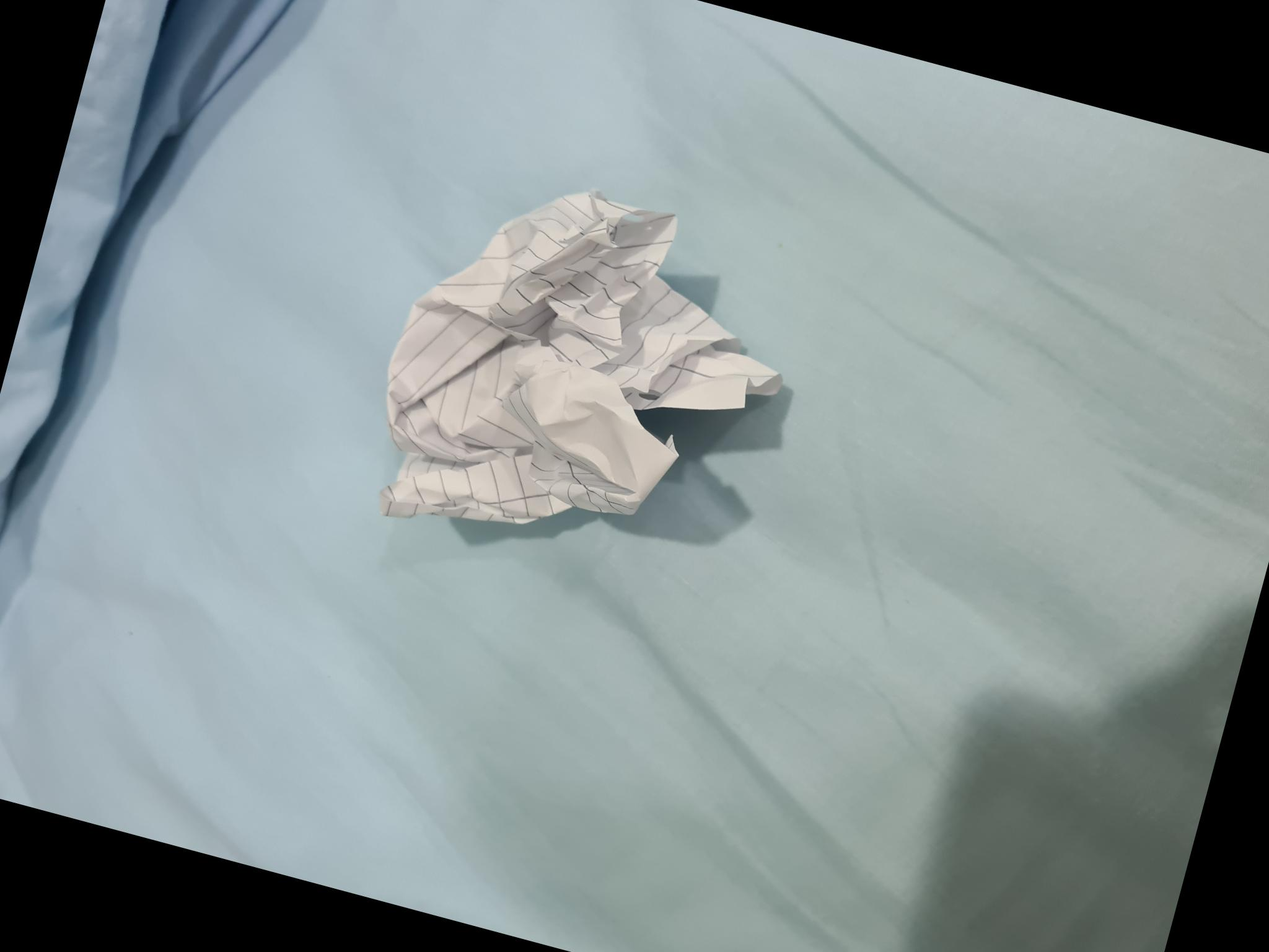Kertas: (394, 334, 724, 682)
